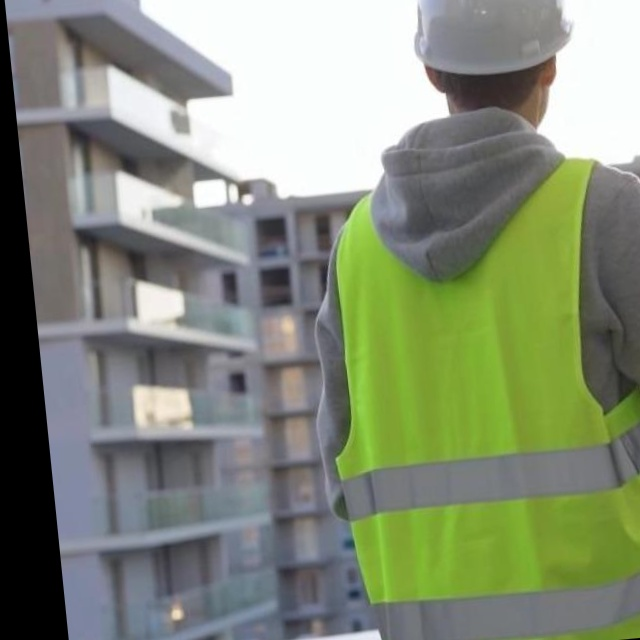Con_Casco: (400, 0, 583, 139)
Con_Chaleco: (308, 138, 640, 640)
